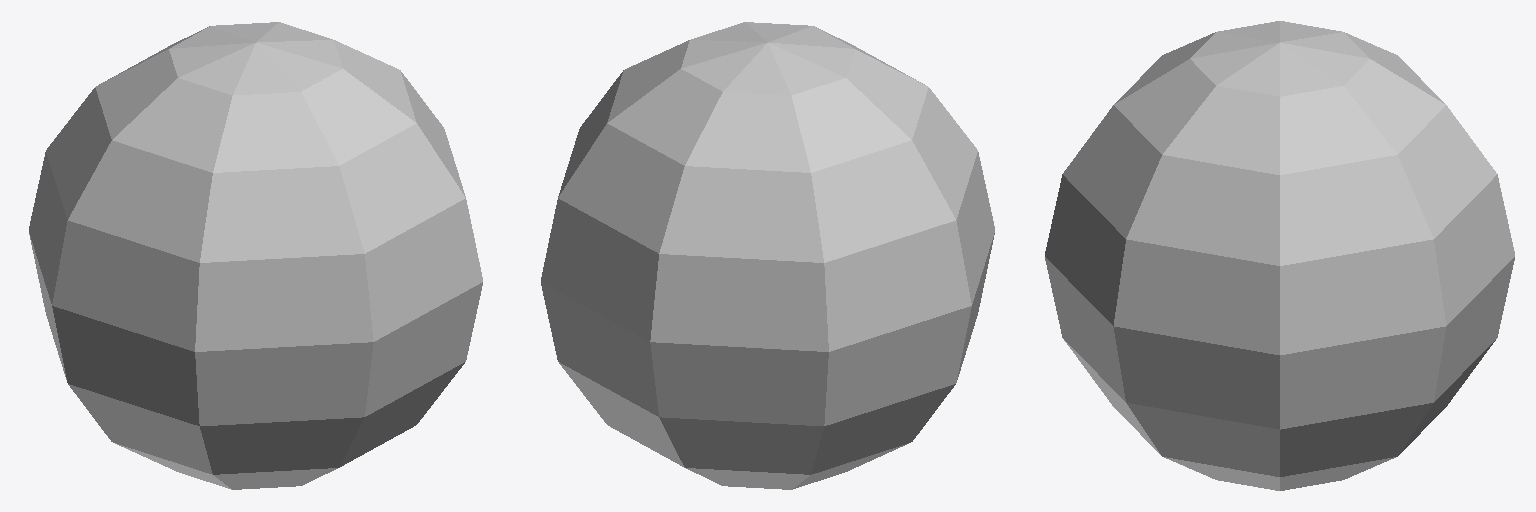
File: light.obj
The picture shows the model from 3 angles: view 1: azimuth 30°, elevation 25°; view 2: azimuth 150°, elevation 25°; view 3: azimuth 270°, elevation 25°; orthographic projection.
Visible parts, largest first — view 1: Sphere; view 2: Sphere; view 3: Sphere.
Boxes of the visible parts, x1=… form: Sphere: x1=29, y1=22, x2=482, y2=489; Sphere: x1=541, y1=22, x2=994, y2=489; Sphere: x1=1045, y1=21, x2=1514, y2=490.
Size of the model in its own units: 0.4348 by 0.4348 by 0.4348.